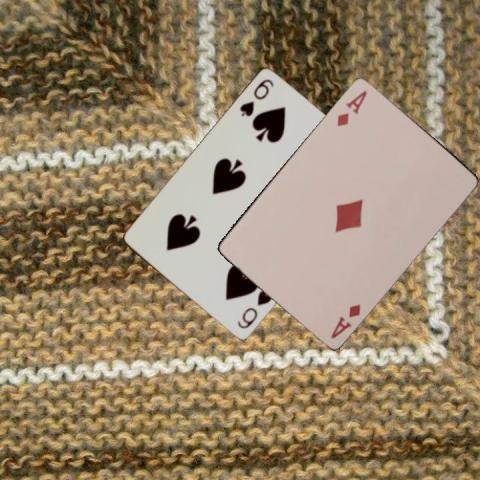6s: (234, 287, 273, 331), (237, 76, 275, 119)
Ad: (333, 87, 369, 128), (327, 301, 363, 340)
